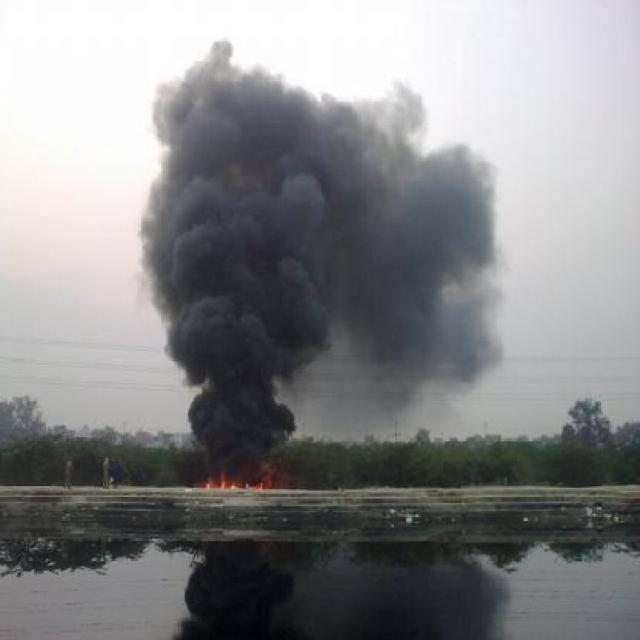Fire: (200, 476, 266, 492)
